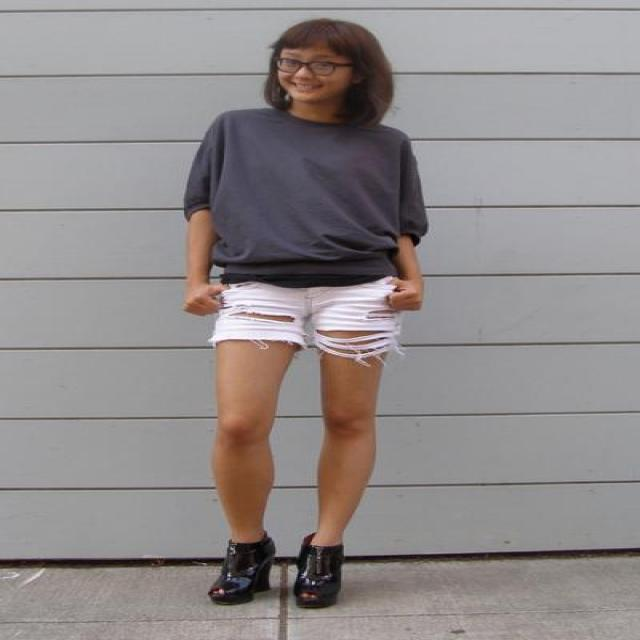shirt: (173, 109, 440, 287)
shoe: (211, 533, 363, 608)
shorts: (211, 276, 410, 363)
